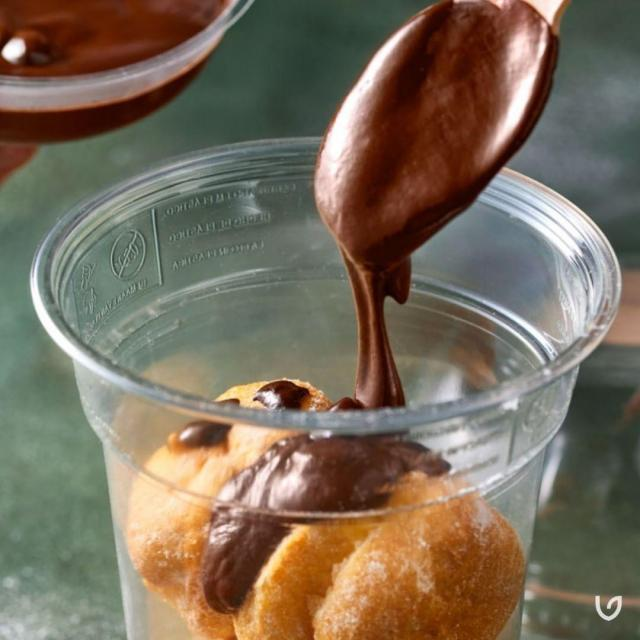cup-disposable: (29, 128, 628, 640)
